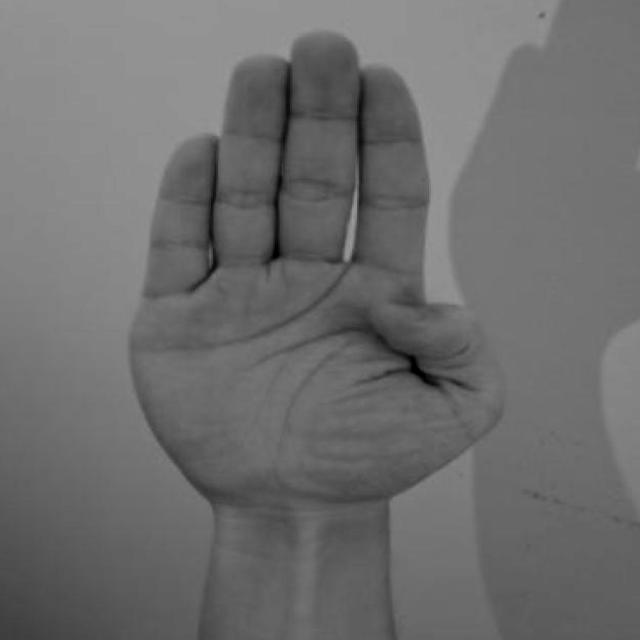B: (107, 27, 524, 545)
